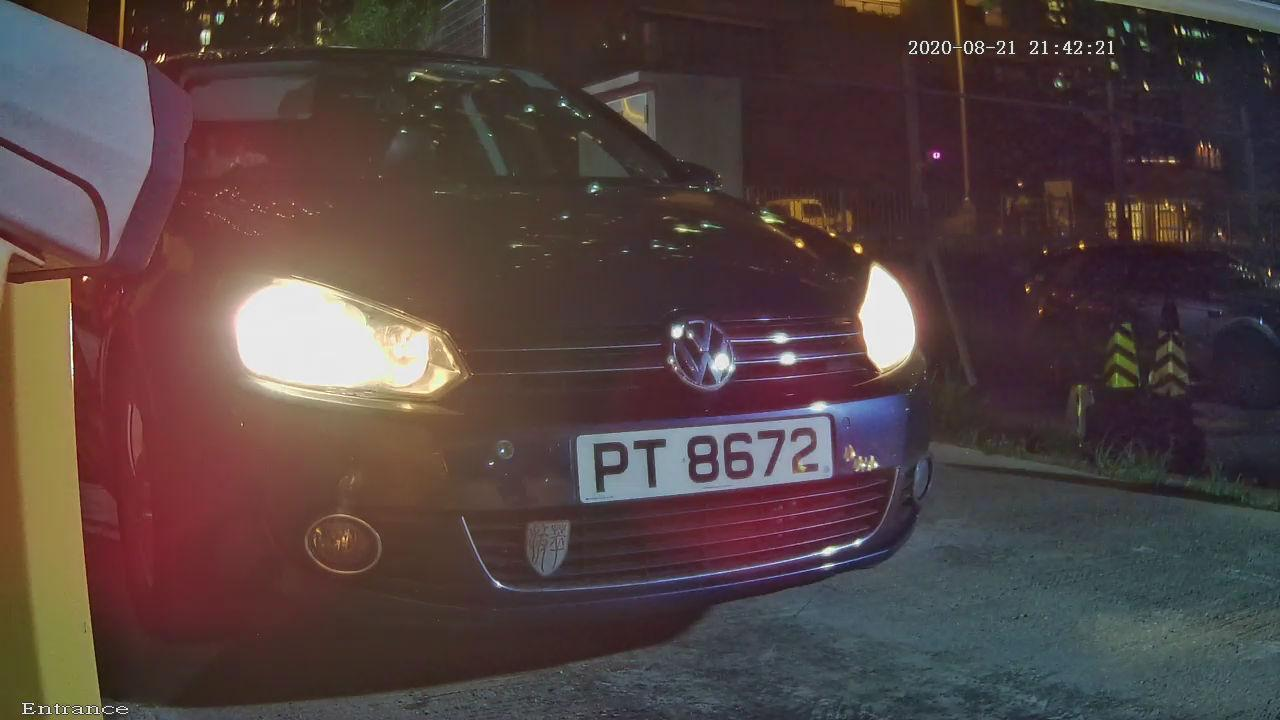Car: (1, 33, 1052, 695)
License Plate: (555, 415, 852, 502)
